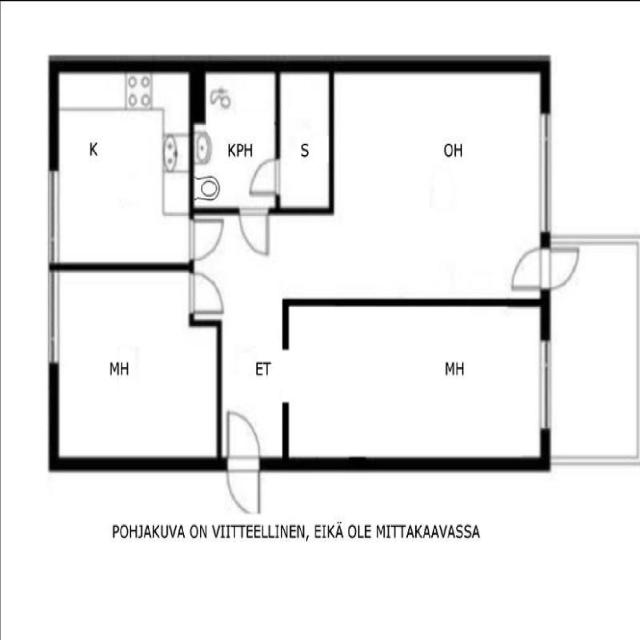door: (222, 404, 266, 519), (504, 242, 558, 292), (538, 242, 583, 290), (235, 203, 272, 260), (185, 213, 227, 263), (185, 267, 227, 317), (246, 153, 284, 200)
window: (534, 105, 558, 237), (534, 331, 556, 438), (43, 264, 63, 370), (43, 164, 63, 267)
zone: (322, 70, 549, 300), (282, 303, 548, 470), (49, 263, 224, 466), (53, 68, 193, 270), (192, 68, 278, 213), (278, 68, 331, 214)
